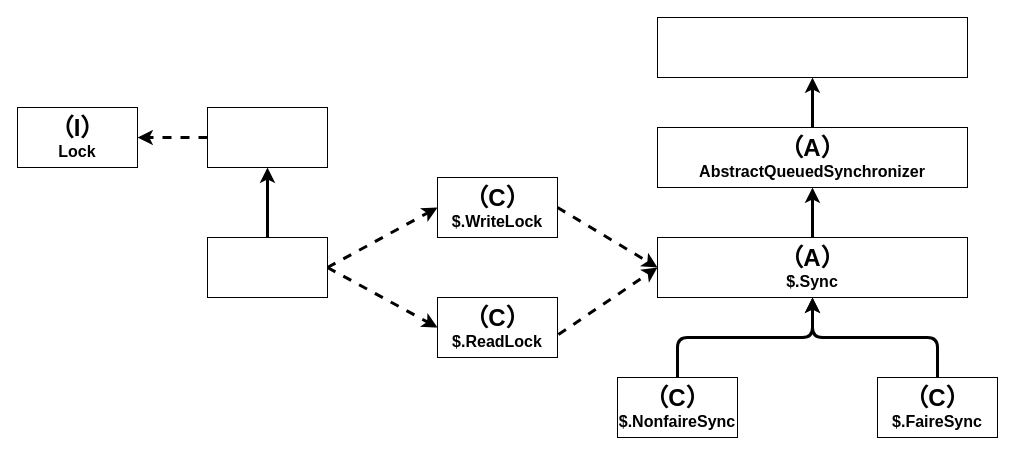
Some shapes in this 1015 by 455 pixel diagram are drawn without their labels. Each missing label, with the centre of its shape:
"（A） AbstractOwnableSynchronizer" goes at point 812,47.
"（C） ReentrantLock" goes at point 267,267.
"（I） ReadWriteLock" goes at point 267,137.
